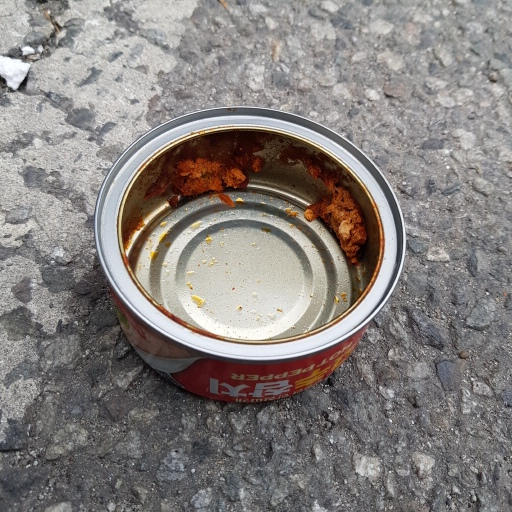Metal_1: (92, 104, 407, 399)
